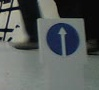forward: (47, 23, 81, 56)
